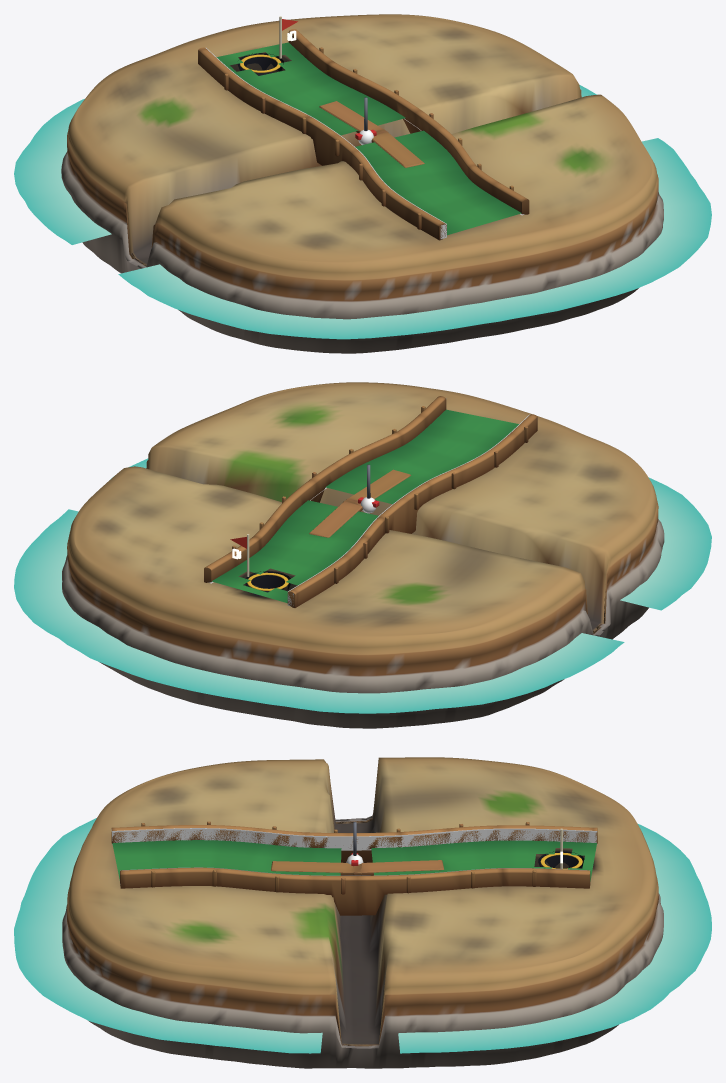
The model's file is course-10.glb.
The picture shows the model from 3 angles, top to bottom: view 1: azimuth 30°, elevation 25°; view 2: azimuth 150°, elevation 25°; view 3: azimuth 270°, elevation 25°; orthographic projection.
Visible parts, largest first — view 1: scenery-matte, water-shore, surface-grass, rail-trim-left, rail-trim-right; view 2: scenery-matte, water-shore, surface-grass, rail-trim-left, rail-trim-right; view 3: scenery-matte, water-shore, surface-grass, rail-trim-right, rail-left, rail-trim-left.
Part boxes in pixels (x1=…): scenery-matte: x1=61, y1=14, x2=663, y2=353; water-shore: x1=14, y1=85, x2=711, y2=339; surface-grass: x1=216, y1=42, x2=521, y2=235; rail-trim-left: x1=198, y1=47, x2=446, y2=240; rail-trim-right: x1=288, y1=29, x2=529, y2=214; scenery-matte: x1=62, y1=382, x2=664, y2=728; water-shore: x1=14, y1=458, x2=711, y2=713; surface-grass: x1=212, y1=409, x2=518, y2=602; rail-trim-left: x1=287, y1=414, x2=537, y2=607; rail-trim-right: x1=204, y1=396, x2=446, y2=582; scenery-matte: x1=62, y1=757, x2=663, y2=1068; water-shore: x1=14, y1=818, x2=711, y2=1053; surface-grass: x1=112, y1=840, x2=596, y2=881; rail-trim-right: x1=120, y1=867, x2=590, y2=915; rail-left: x1=111, y1=828, x2=597, y2=850; rail-trim-left: x1=111, y1=821, x2=597, y2=862.
Bounding box in the file's own units: 11.96 × 3.26 × 13.01.
